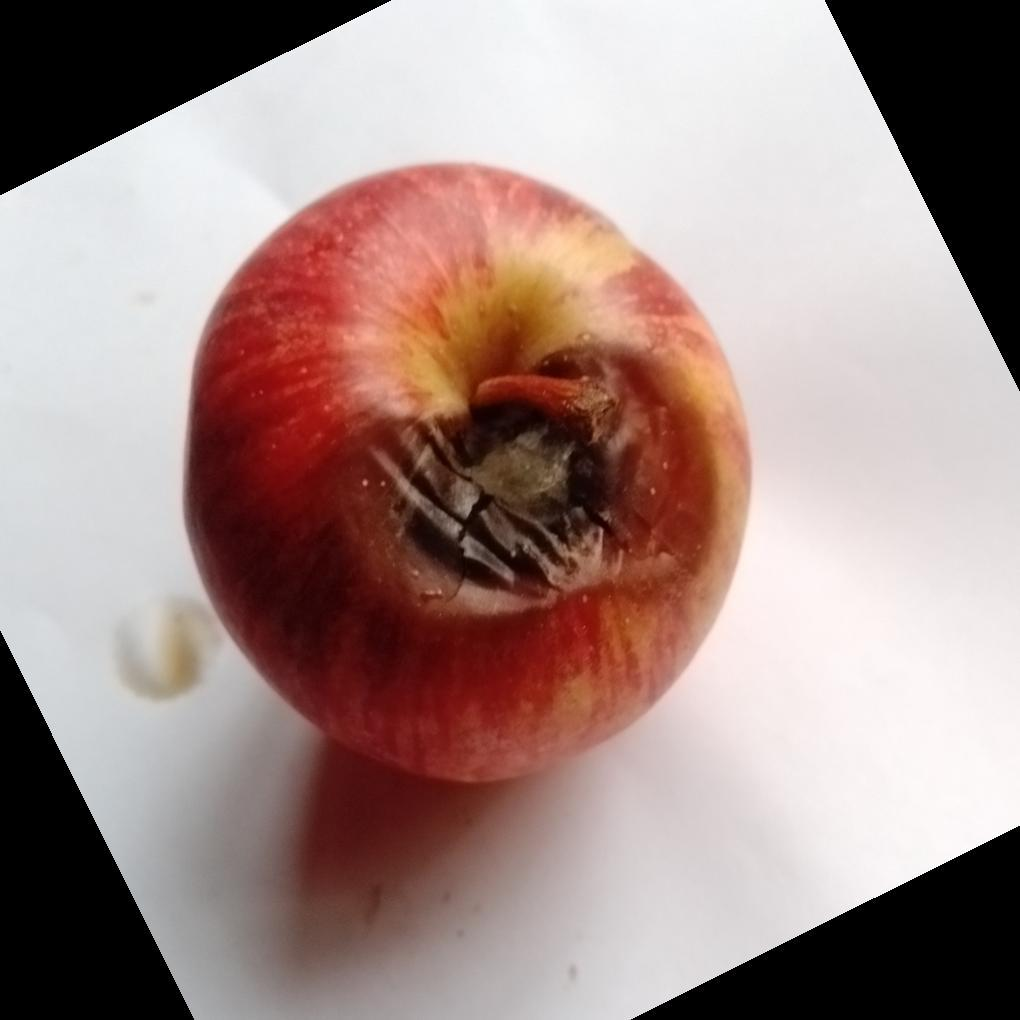FreshOrange: (182, 162, 753, 789)
